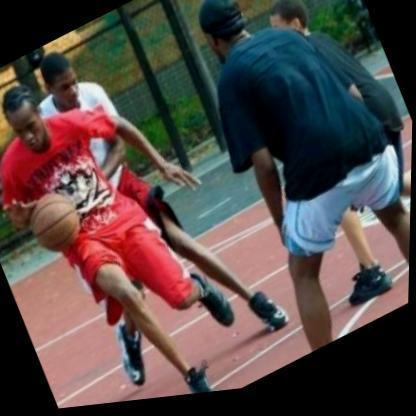basketball: (18, 180, 96, 266)
